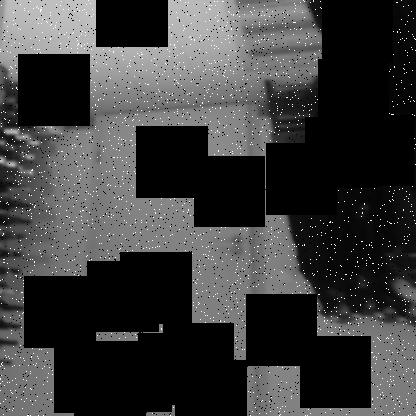Porte: (78, 103, 268, 415)
